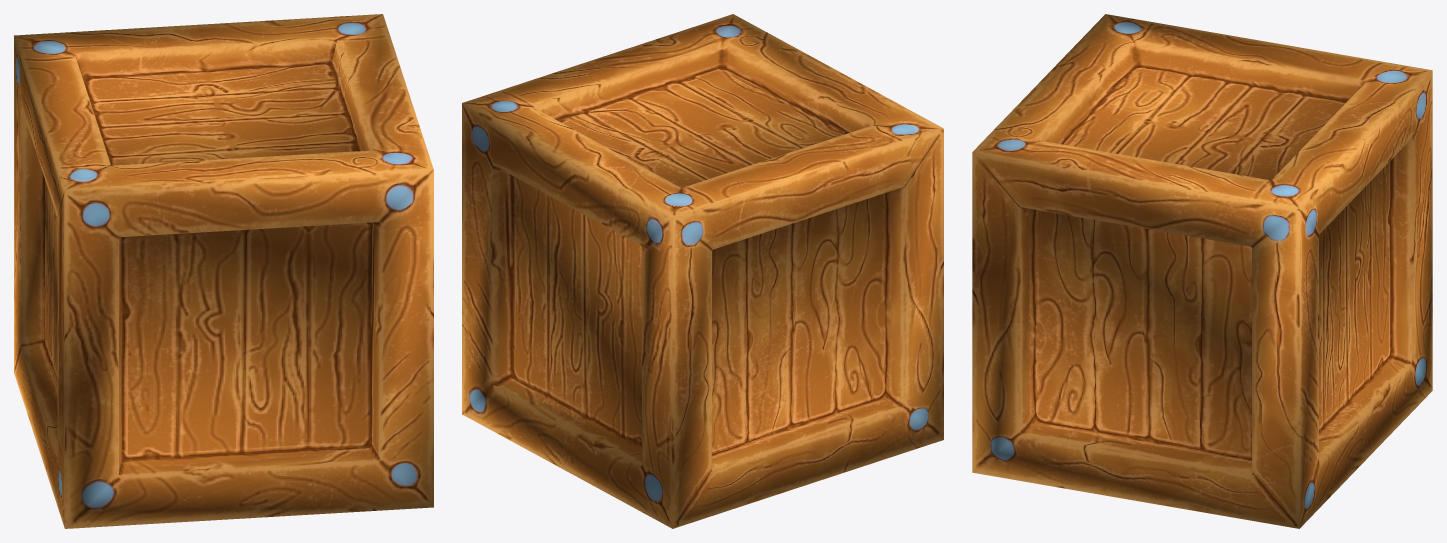
3 renders of one model, left to right at view 1: azimuth 30°, elevation 25°; view 2: azimuth 150°, elevation 25°; view 3: azimuth 270°, elevation 25°, orthographic. The views are drawn at different scales.
Visible parts, largest first — view 1: Object_2; view 2: Object_2; view 3: Object_2.
Part boxes in pixels (bbox=[...]): Object_2: bbox=[14, 14, 433, 528]; Object_2: bbox=[462, 14, 943, 528]; Object_2: bbox=[972, 14, 1432, 528].
Size of the model in its own units: 0.8957 by 0.6873 by 0.8957.
Materials: 1 (1 with a texture image).
